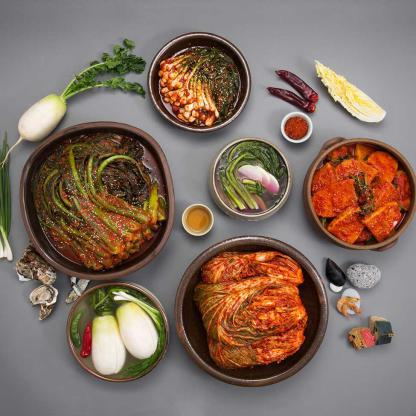kimchi: (190, 252, 312, 374), (191, 278, 310, 340), (202, 324, 310, 376), (200, 249, 309, 292)
